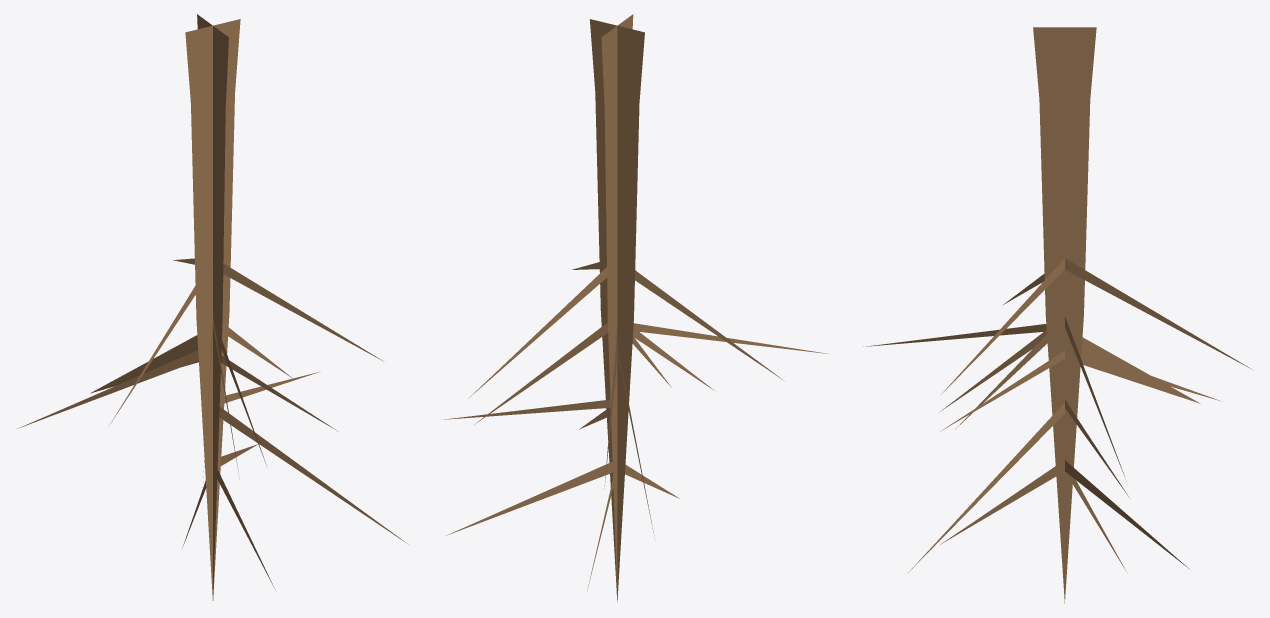
The model's file is tre1.obj.
The picture shows the model from 3 angles, left to right: view 1: azimuth 30°, elevation 25°; view 2: azimuth 150°, elevation 25°; view 3: azimuth 270°, elevation 25°; orthographic projection.
Bounding box in the file's own units: 316 × 620 × 384.
